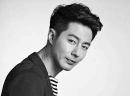male: (42, 5, 108, 91)
